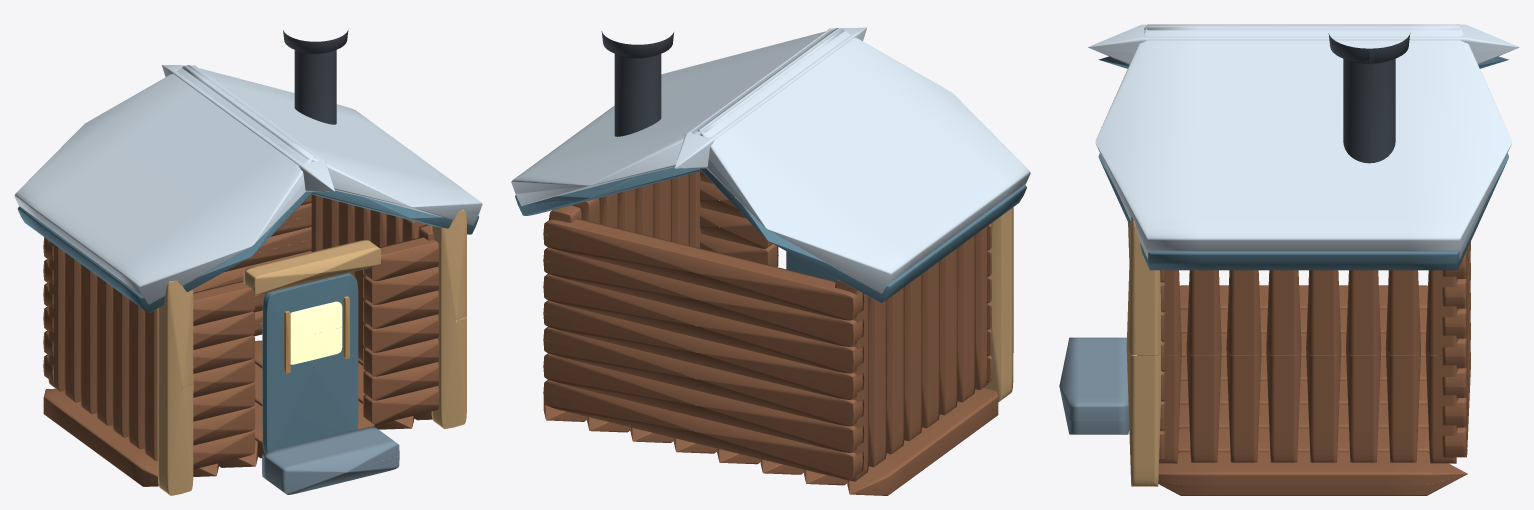
The model's file is shelter.glb.
The picture shows the model from 3 angles, left to right: view 1: azimuth 30°, elevation 25°; view 2: azimuth 150°, elevation 25°; view 3: azimuth 270°, elevation 25°; orthographic projection. The views are drawn at different scales.
Parts seen in each view (by area): view 1: snow_blanket (×2), side_board (×12), corner_post (×2), front_right (×7), door, front_left (×7), step, roof_panel (×2), floor_board (×2), lintel, chimney, rear_timber (×3) (+2 smaller); view 2: snow_blanket (×2), rear_timber (×7), side_board (×14), roof_panel (×2), floor_board, chimney, corner_post, front_right (×3), ridge_cap, door; view 3: snow_blanket (×2), side_board (×8), floor_board (×8), corner_post, roof_panel, chimney, step, rear_timber (×6), ridge_cap.
Boxes of the visible parts, bbox=[...] form: snow_blanket (×2): bbox=[14, 65, 482, 304]; side_board (×12): bbox=[48, 194, 385, 461]; corner_post (×2): bbox=[157, 209, 466, 495]; front_right (×7): bbox=[363, 237, 438, 424]; door: bbox=[262, 273, 358, 452]; front_left (×7): bbox=[182, 281, 255, 469]; step: bbox=[262, 426, 399, 494]; roof_panel (×2): bbox=[17, 190, 478, 312]; floor_board (×2): bbox=[43, 358, 414, 486]; lintel: bbox=[243, 239, 381, 294]; chimney: bbox=[283, 30, 348, 124]; rear_timber (×3): bbox=[43, 203, 311, 332]; snow_blanket (×2): bbox=[511, 28, 1030, 293]; rear_timber (×7): bbox=[543, 218, 864, 479]; side_board (×14): bbox=[600, 171, 988, 481]; roof_panel (×2): bbox=[515, 167, 1026, 302]; floor_board: bbox=[847, 388, 998, 495]; chimney: bbox=[601, 31, 673, 136]; corner_post: bbox=[983, 207, 1013, 402]; front_right (×3): bbox=[700, 181, 778, 266]; ridge_cap: bbox=[675, 27, 866, 168]; door: bbox=[786, 251, 837, 281]; snow_blanket (×2): bbox=[1095, 24, 1512, 258]; side_board (×8): bbox=[1159, 270, 1458, 463]; floor_board (×8): bbox=[1158, 285, 1467, 495]; corner_post: bbox=[1126, 217, 1161, 486]; roof_panel: bbox=[1098, 153, 1508, 270]; chimney: bbox=[1328, 33, 1410, 163]; step: bbox=[1059, 337, 1131, 434]; rear_timber (×6): bbox=[1439, 242, 1470, 457]; ridge_cap: bbox=[1088, 24, 1519, 64].
Size of the model in its own units: 3.01 by 2.88 by 2.81.
